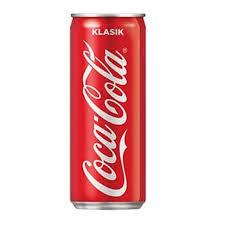can: (66, 9, 153, 214)
